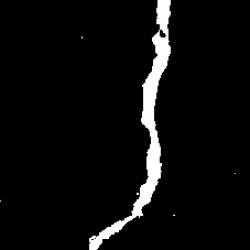crack: (89, 1, 173, 249)
